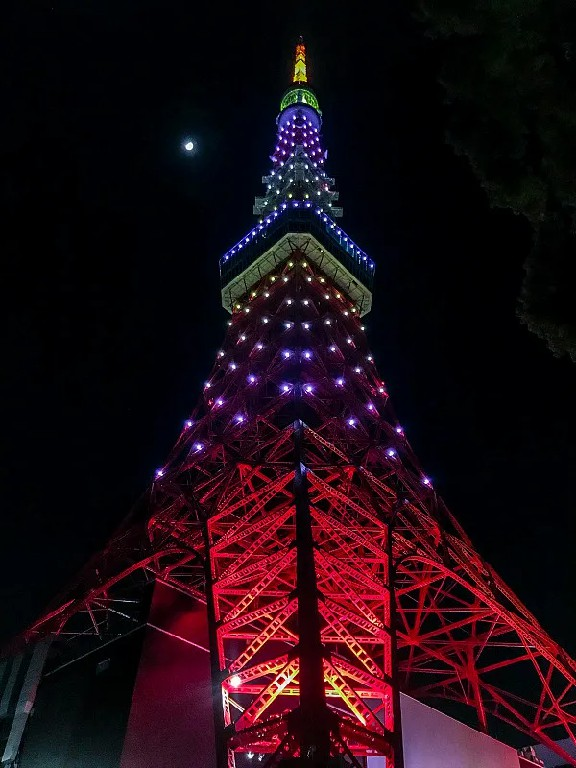Tokyo: (22, 32, 576, 768)
